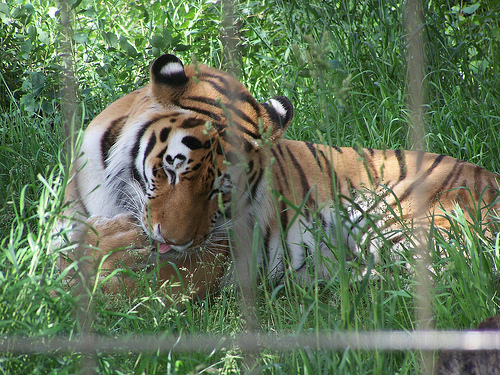Tigre: (72, 79, 493, 312)
